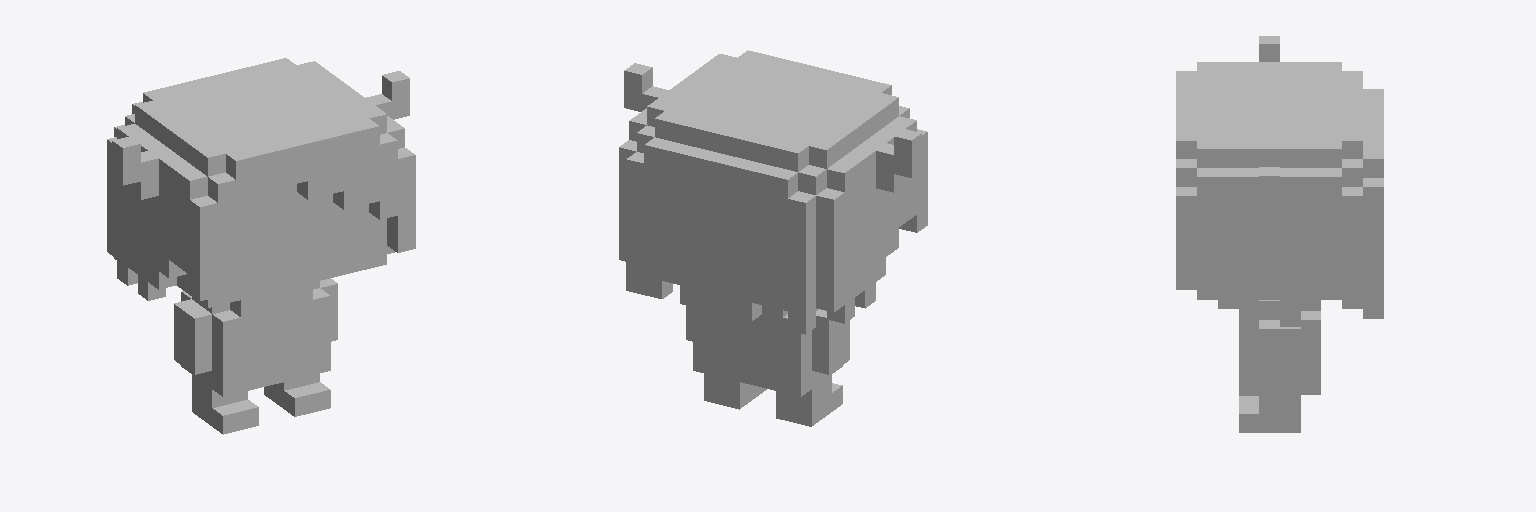
Rendered from vuImposter.obj.
3 renders of one model, left to right at view 1: azimuth 30°, elevation 25°; view 2: azimuth 150°, elevation 25°; view 3: azimuth 270°, elevation 25°, orthographic.
Size of the model in its own units: 16 by 16 by 10.